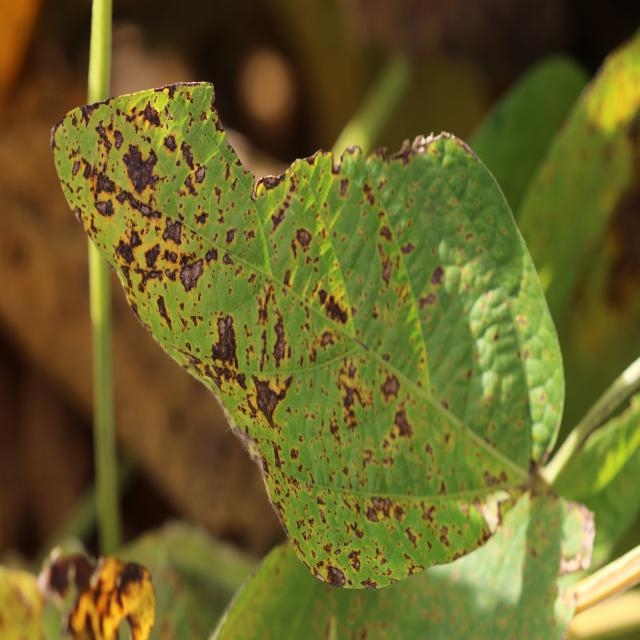Bacterial_Blight: (335, 357, 378, 431), (206, 304, 243, 374), (121, 141, 161, 197), (252, 373, 290, 427), (271, 307, 289, 366), (320, 291, 348, 325), (179, 259, 204, 292), (392, 404, 413, 439), (94, 170, 117, 199), (114, 238, 136, 268), (156, 295, 174, 331), (95, 120, 114, 152), (162, 217, 182, 246), (140, 101, 161, 127), (270, 203, 288, 233), (269, 439, 285, 470), (259, 173, 285, 192), (180, 140, 196, 170), (418, 290, 437, 312), (294, 227, 312, 249), (420, 503, 437, 526), (381, 256, 394, 286), (185, 352, 204, 372), (378, 224, 393, 242)
Soybean: (51, 82, 564, 588)
